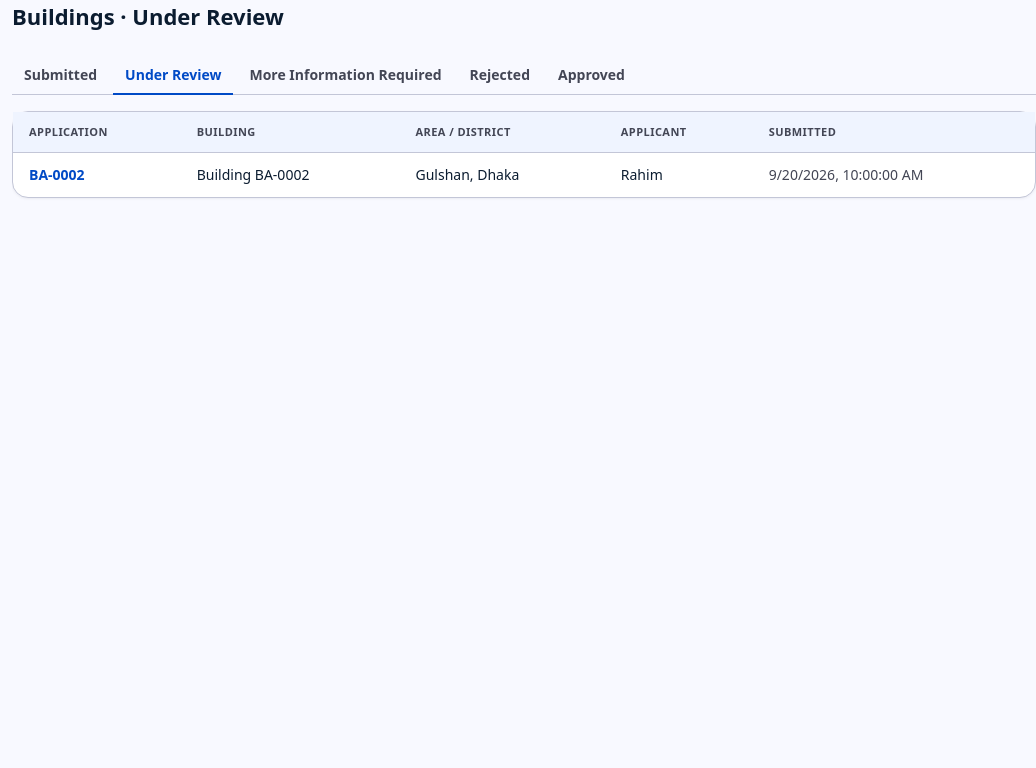
ApplicationsScreen › opens the review panel with history and duplicates for the Under Review item
Click the button "BA-0002". click: click(57, 175)
box: [29,165,85,185]
(page scrolled)
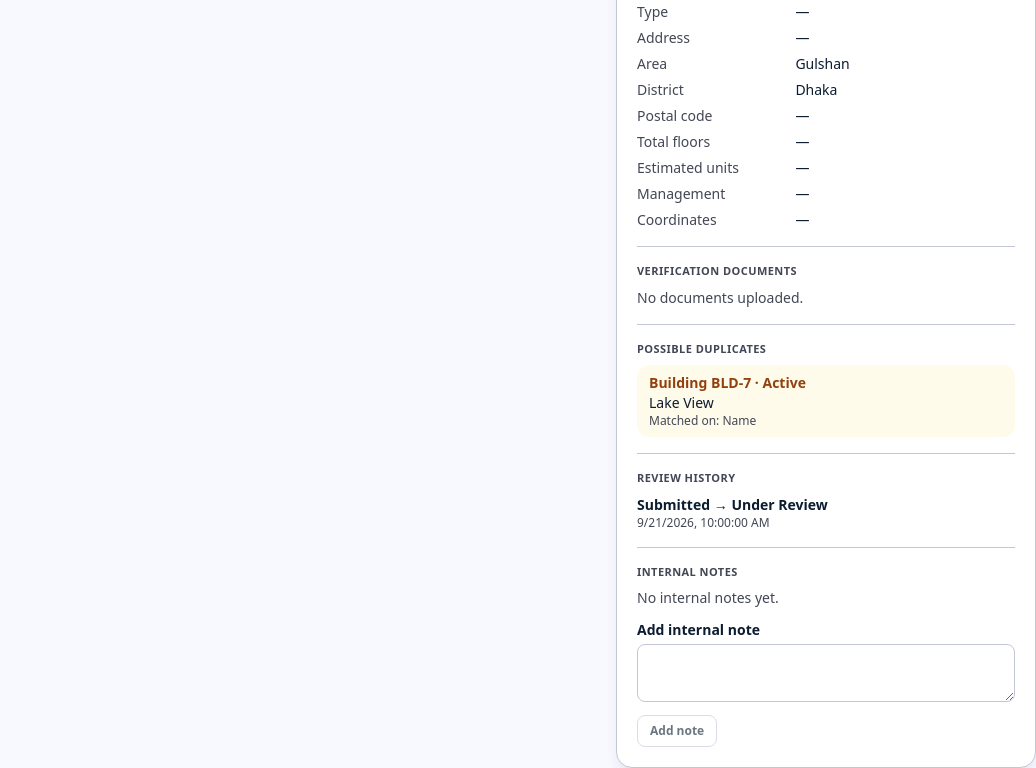
expect the text "BLD-7" is shown: met, box [711,373,751,392]
expect the text "Matched on: Name" is shown: met, box [649,412,756,429]
expect the text "Submitted → Under Review" is shown: met, box [637,494,828,514]
